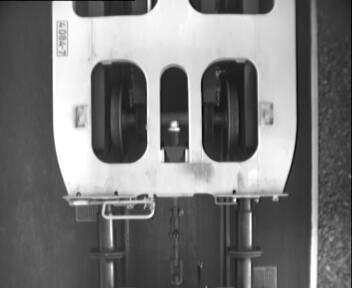wagon_scan: (82, 54, 266, 168)
